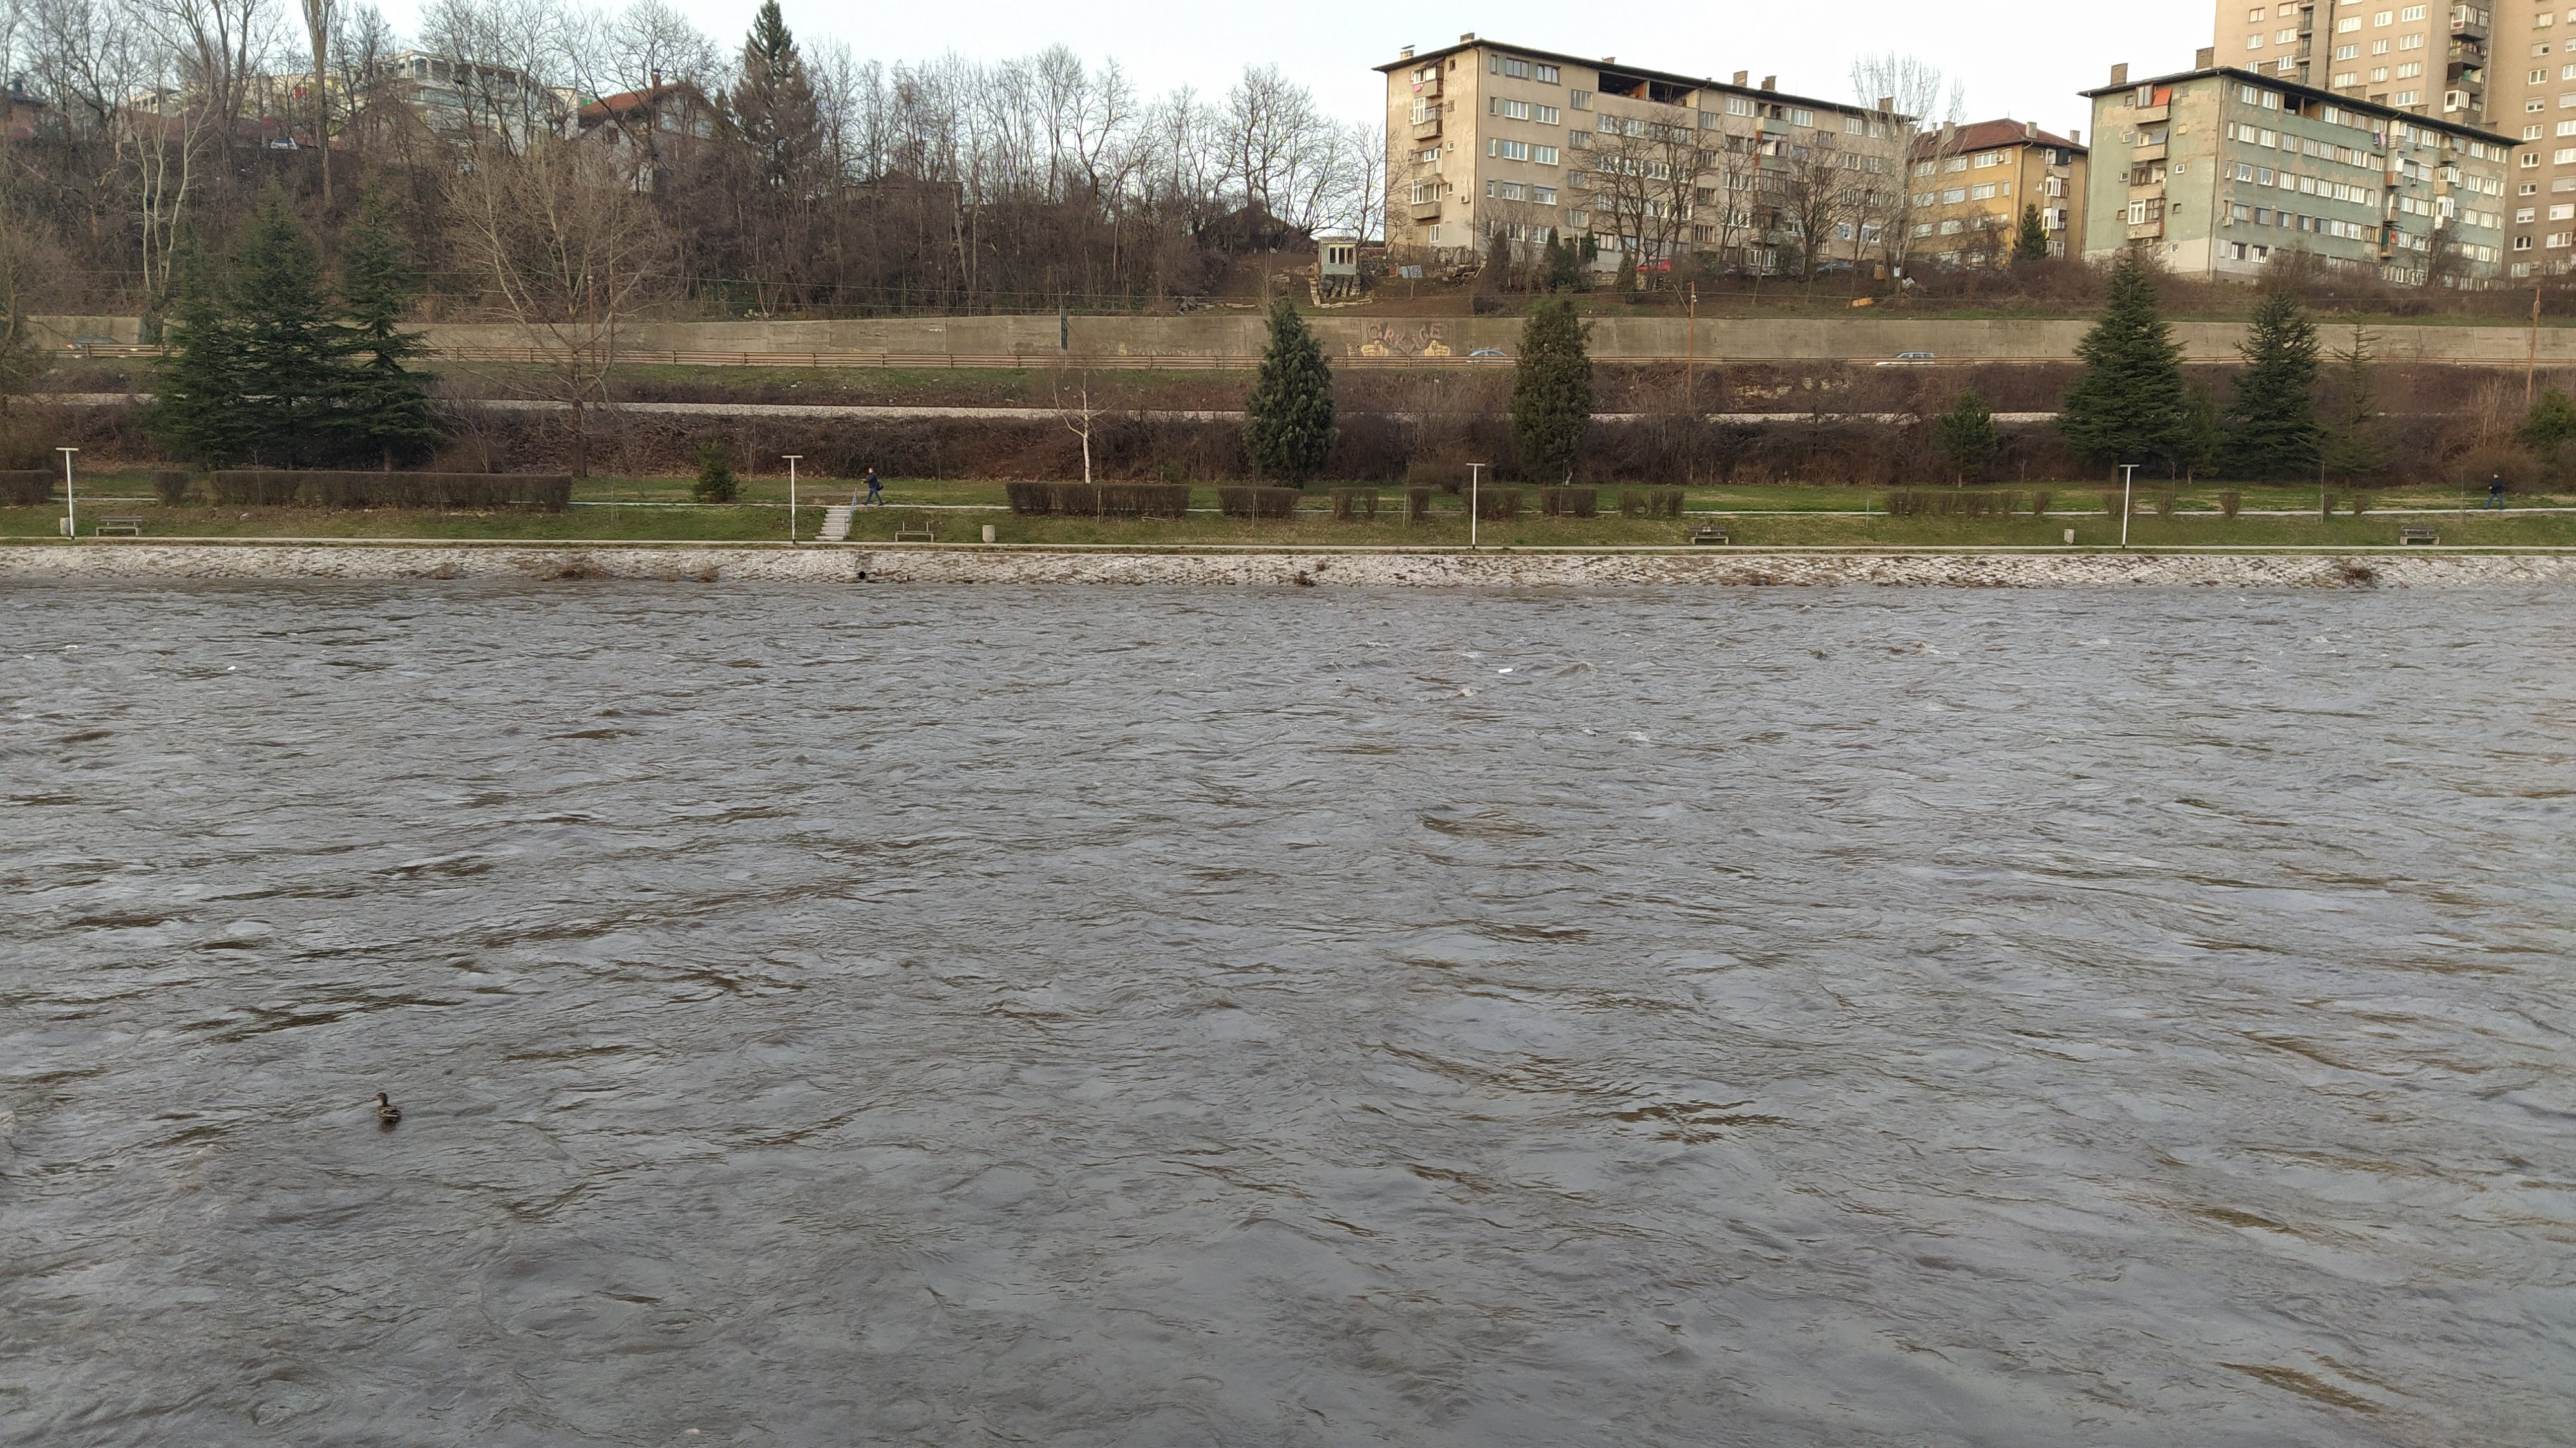Plastic Bottle: (1499, 667, 1513, 673), (21, 655, 34, 660), (65, 644, 78, 648), (287, 632, 297, 635), (226, 666, 234, 669)
